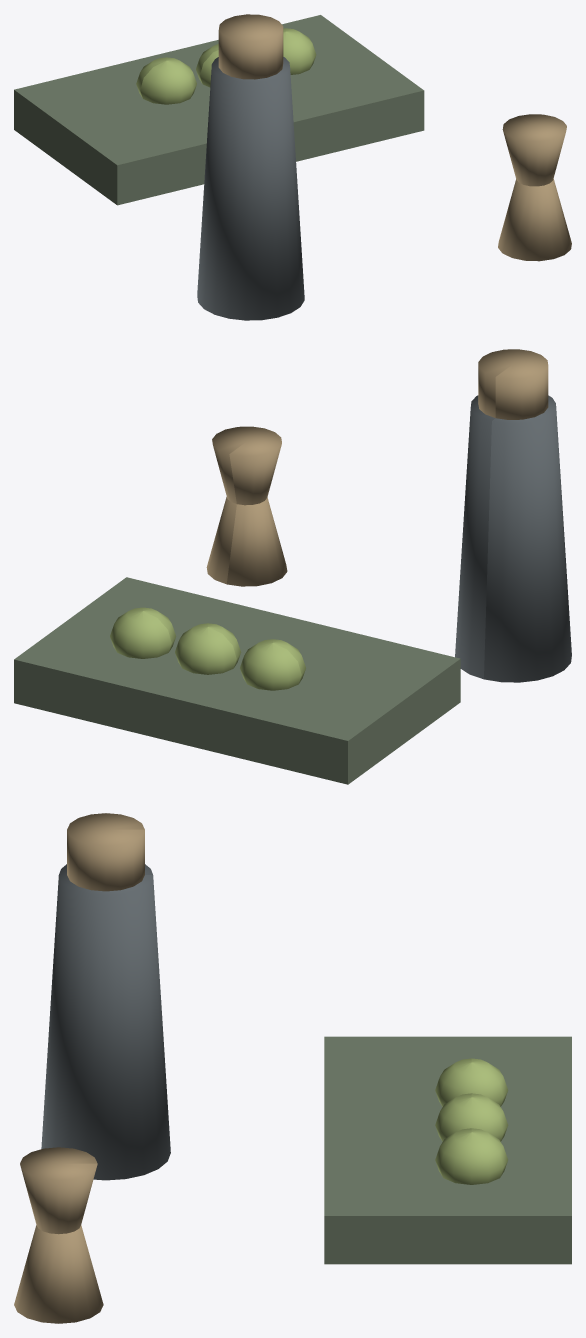
Rendered from yokocho-mixology-tools.glb.
3 renders of one model, top to bottom at view 1: azimuth 30°, elevation 25°; view 2: azimuth 150°, elevation 25°; view 3: azimuth 270°, elevation 25°, orthographic. The views are drawn at different scales.
Visible parts, largest first — view 1: Shops/S06/Personality/MixologyTools__Night_SmokyGlass, Shops/S06/Personality/MixologyTools__Iron, Shops/S06/Personality/MixologyTools__Bronze, Shops/S06/Personality/MixologyTools__MatchaSweets; view 2: Shops/S06/Personality/MixologyTools__Night_SmokyGlass, Shops/S06/Personality/MixologyTools__Iron, Shops/S06/Personality/MixologyTools__Bronze, Shops/S06/Personality/MixologyTools__MatchaSweets; view 3: Shops/S06/Personality/MixologyTools__Night_SmokyGlass, Shops/S06/Personality/MixologyTools__Iron, Shops/S06/Personality/MixologyTools__Bronze, Shops/S06/Personality/MixologyTools__MatchaSweets.
Boxes of the visible parts, x1=… form: Shops/S06/Personality/MixologyTools__Night_SmokyGlass: x1=14, y1=15, x2=424, y2=205; Shops/S06/Personality/MixologyTools__Iron: x1=197, y1=57, x2=304, y2=320; Shops/S06/Personality/MixologyTools__Bronze: x1=218, y1=14, x2=571, y2=261; Shops/S06/Personality/MixologyTools__MatchaSweets: x1=136, y1=28, x2=316, y2=104; Shops/S06/Personality/MixologyTools__Night_SmokyGlass: x1=14, y1=577, x2=460, y2=784; Shops/S06/Personality/MixologyTools__Iron: x1=455, y1=395, x2=571, y2=682; Shops/S06/Personality/MixologyTools__Bronze: x1=206, y1=349, x2=548, y2=586; Shops/S06/Personality/MixologyTools__MatchaSweets: x1=110, y1=607, x2=305, y2=690; Shops/S06/Personality/MixologyTools__Night_SmokyGlass: x1=324, y1=1036, x2=571, y2=1264; Shops/S06/Personality/MixologyTools__Iron: x1=41, y1=864, x2=170, y2=1180; Shops/S06/Personality/MixologyTools__Bronze: x1=14, y1=813, x2=144, y2=1323; Shops/S06/Personality/MixologyTools__MatchaSweets: x1=435, y1=1058, x2=508, y2=1184.
Bounding box in the file's own units: 0.403 × 0.3025 × 0.473.
